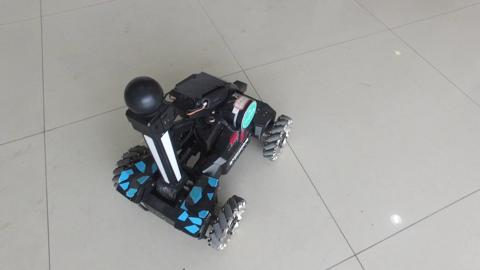chariot: (86, 55, 289, 237)
